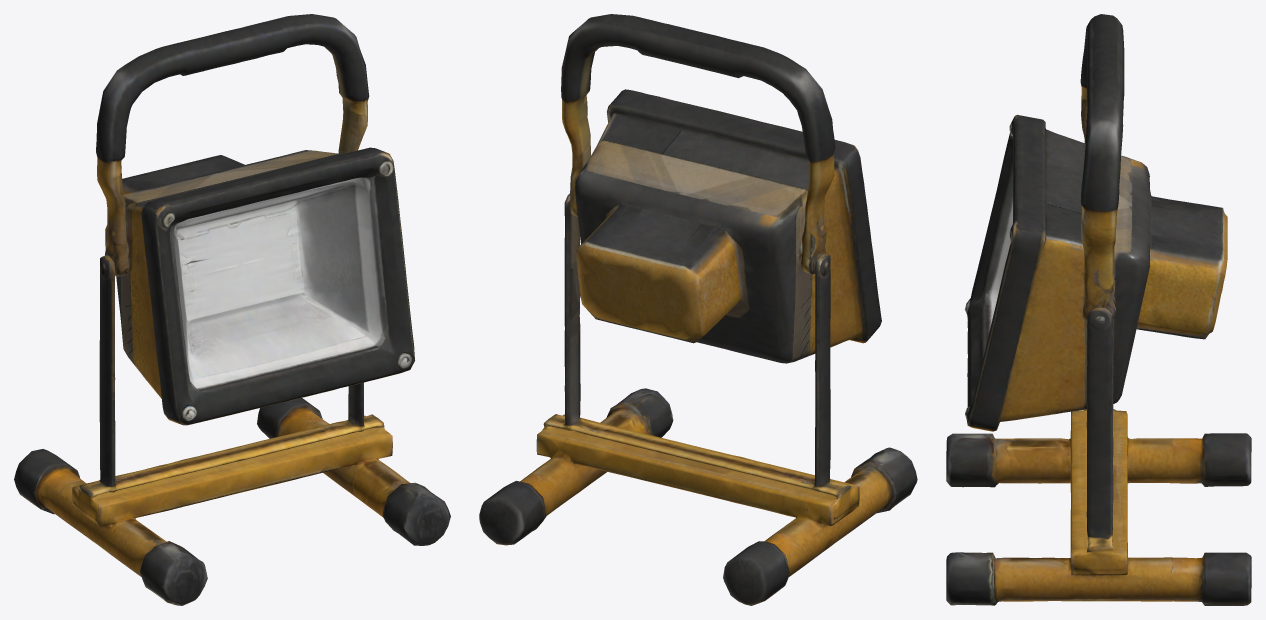
The model's file is Portable_Work_Light_0220160539_texture.fbx.
The picture shows the model from 3 angles, left to right: view 1: azimuth 30°, elevation 25°; view 2: azimuth 150°, elevation 25°; view 3: azimuth 270°, elevation 25°; orthographic projection.
Visible parts, largest first — view 1: Mesh1_Mesh1.044; view 2: Mesh1_Mesh1.044; view 3: Mesh1_Mesh1.044.
Boxes of the visible parts, x1,y1,x2,y2 form: Mesh1_Mesh1.044: [14, 14, 450, 605]; Mesh1_Mesh1.044: [479, 14, 917, 605]; Mesh1_Mesh1.044: [946, 14, 1251, 605].
Bounding box in the file's own units: 126 × 200 × 113.
Materials: 1 (1 with a texture image).
